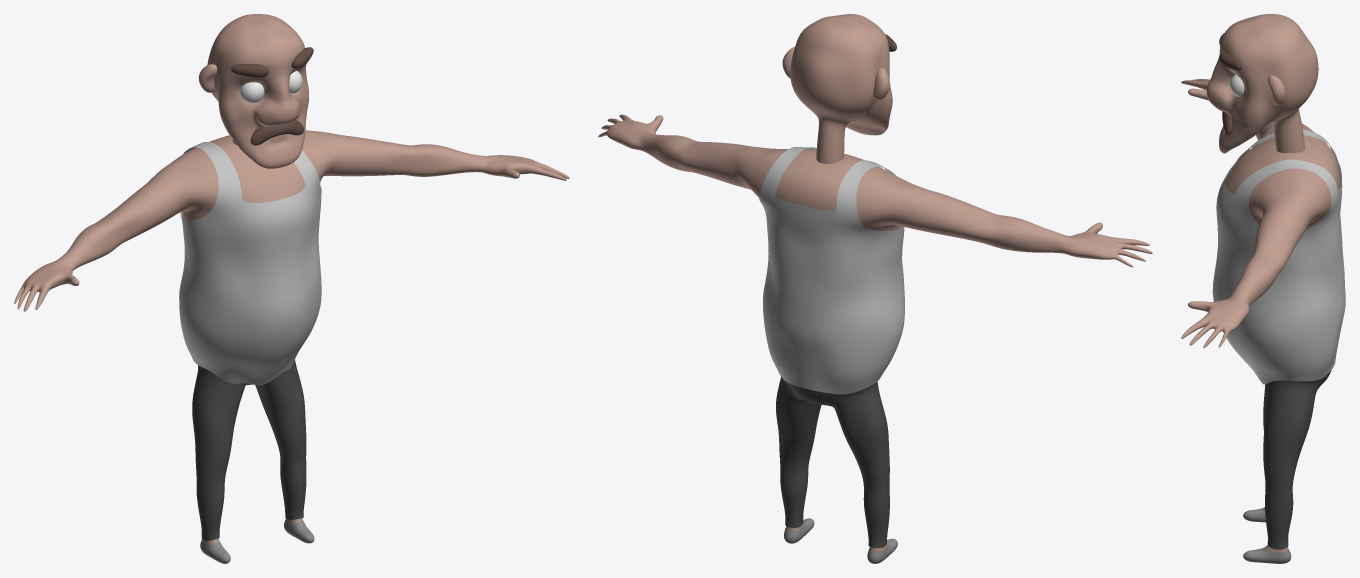
The model's file is Soldado.fbx.
3 renders of one model, left to right at view 1: azimuth 30°, elevation 25°; view 2: azimuth 150°, elevation 25°; view 3: azimuth 270°, elevation 25°, orthographic.
Parts seen in each view (by area): view 1: polySurface26; view 2: polySurface26; view 3: polySurface26.
Boxes of the visible parts, x1,y1,x2,y2 form: polySurface26: (14,14,569,563); polySurface26: (598,14,1152,563); polySurface26: (1181,14,1345,563).
Bounding box in the file's own units: 47.65 × 44 × 12.56.
